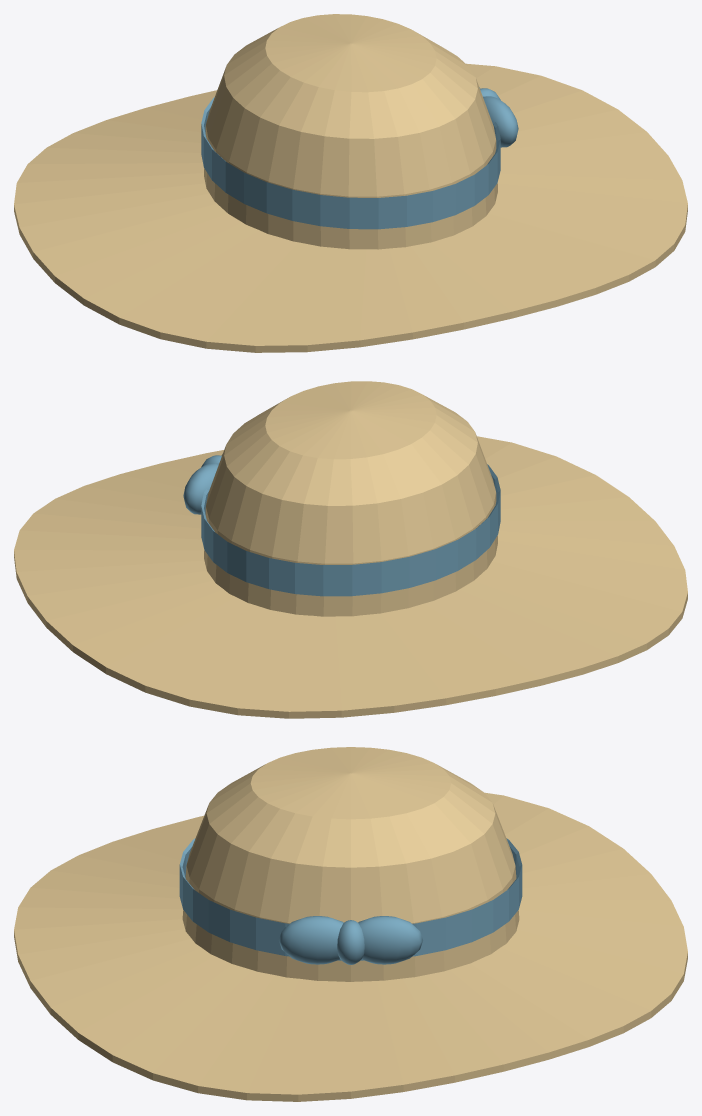
The model's file is hat_sun_hat.glb.
3 renders of one model, top to bottom at view 1: azimuth 30°, elevation 25°; view 2: azimuth 150°, elevation 25°; view 3: azimuth 270°, elevation 25°, orthographic. The views are drawn at different scales.
Parts seen in each view (by area): view 1: SunHat_Wide_Floppy_Brim, SunHat_Low_Crown, SunHat_Blue_Band, SunHat_Ribbon_Bow; view 2: SunHat_Wide_Floppy_Brim, SunHat_Low_Crown, SunHat_Blue_Band, SunHat_Ribbon_Bow.001; view 3: SunHat_Wide_Floppy_Brim, SunHat_Low_Crown, SunHat_Blue_Band, SunHat_Ribbon_Bow, SunHat_Ribbon_Bow.001, SunHat_Bow_Knot.
Part boxes in pixels (bbox=[...]): SunHat_Wide_Floppy_Brim: bbox=[14, 63, 687, 352]; SunHat_Low_Crown: bbox=[204, 14, 497, 249]; SunHat_Blue_Band: bbox=[201, 97, 500, 229]; SunHat_Ribbon_Bow: bbox=[483, 96, 518, 147]; SunHat_Wide_Floppy_Brim: bbox=[14, 436, 687, 718]; SunHat_Low_Crown: bbox=[204, 381, 497, 616]; SunHat_Blue_Band: bbox=[201, 464, 500, 596]; SunHat_Ribbon_Bow.001: bbox=[183, 463, 218, 514]; SunHat_Wide_Floppy_Brim: bbox=[14, 792, 687, 1101]; SunHat_Low_Crown: bbox=[182, 747, 519, 981]; SunHat_Blue_Band: bbox=[179, 838, 522, 960]; SunHat_Ribbon_Bow: bbox=[279, 916, 343, 964]; SunHat_Ribbon_Bow.001: bbox=[358, 916, 422, 964]; SunHat_Bow_Knot: bbox=[337, 920, 364, 964].
Bounding box in the file's own units: 0.534 × 0.153 × 0.504.
